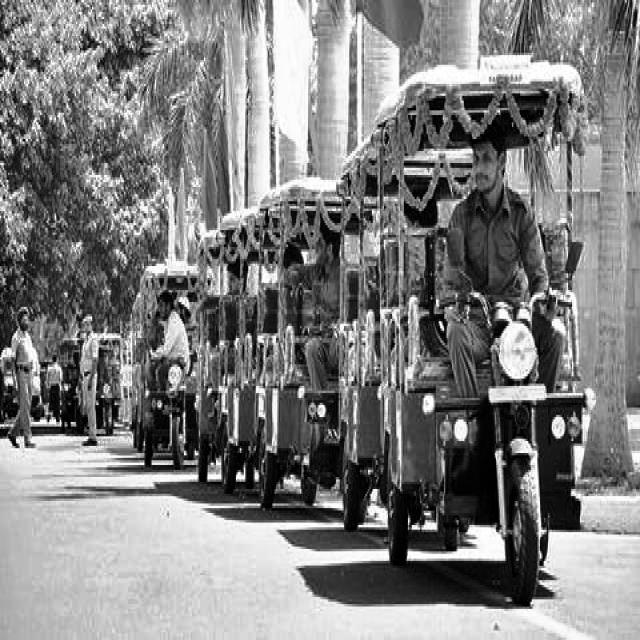Toto: (375, 58, 591, 604), (253, 183, 345, 503), (140, 263, 199, 484)
